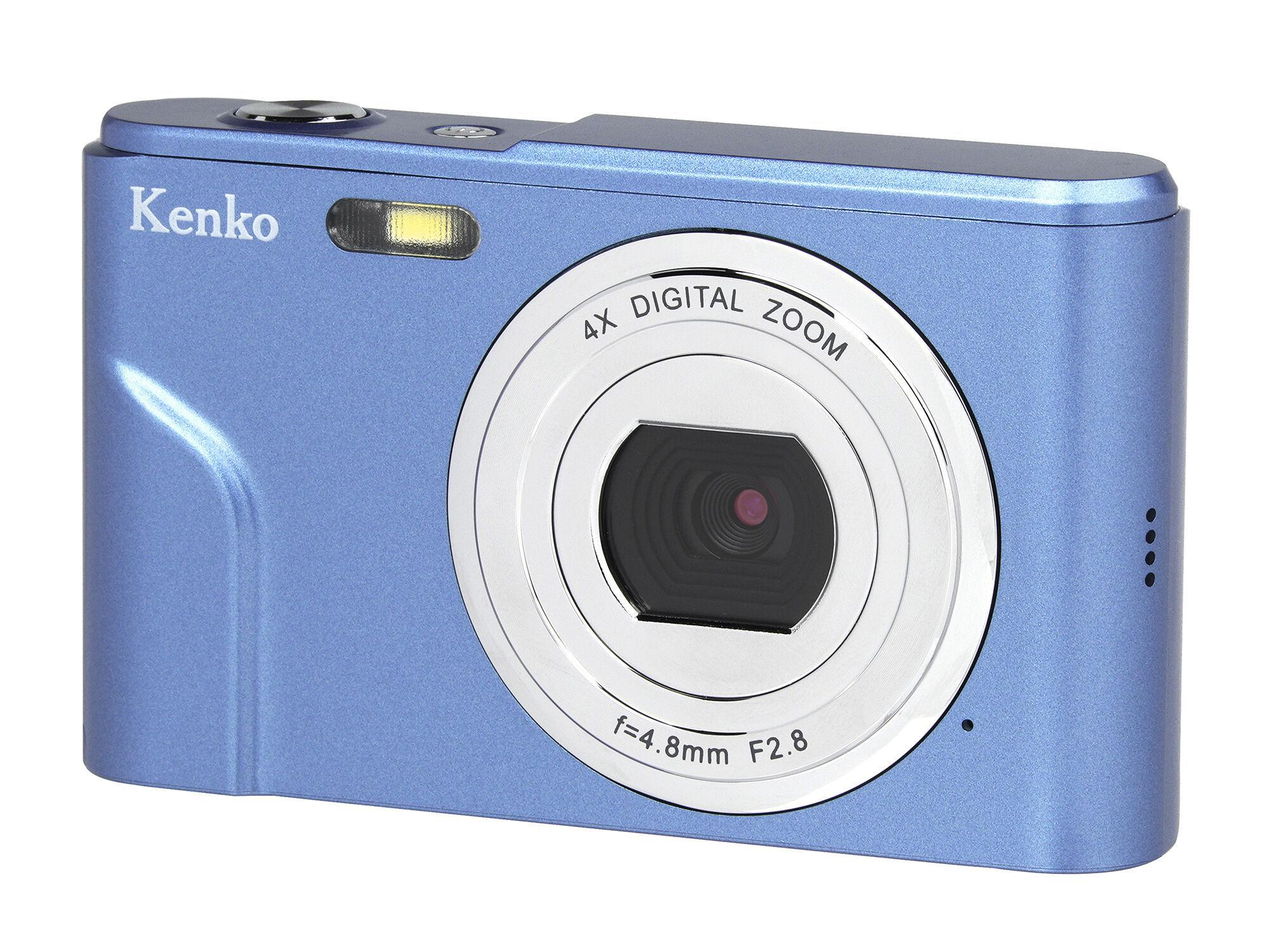degital-camera: (65, 79, 1196, 890)
